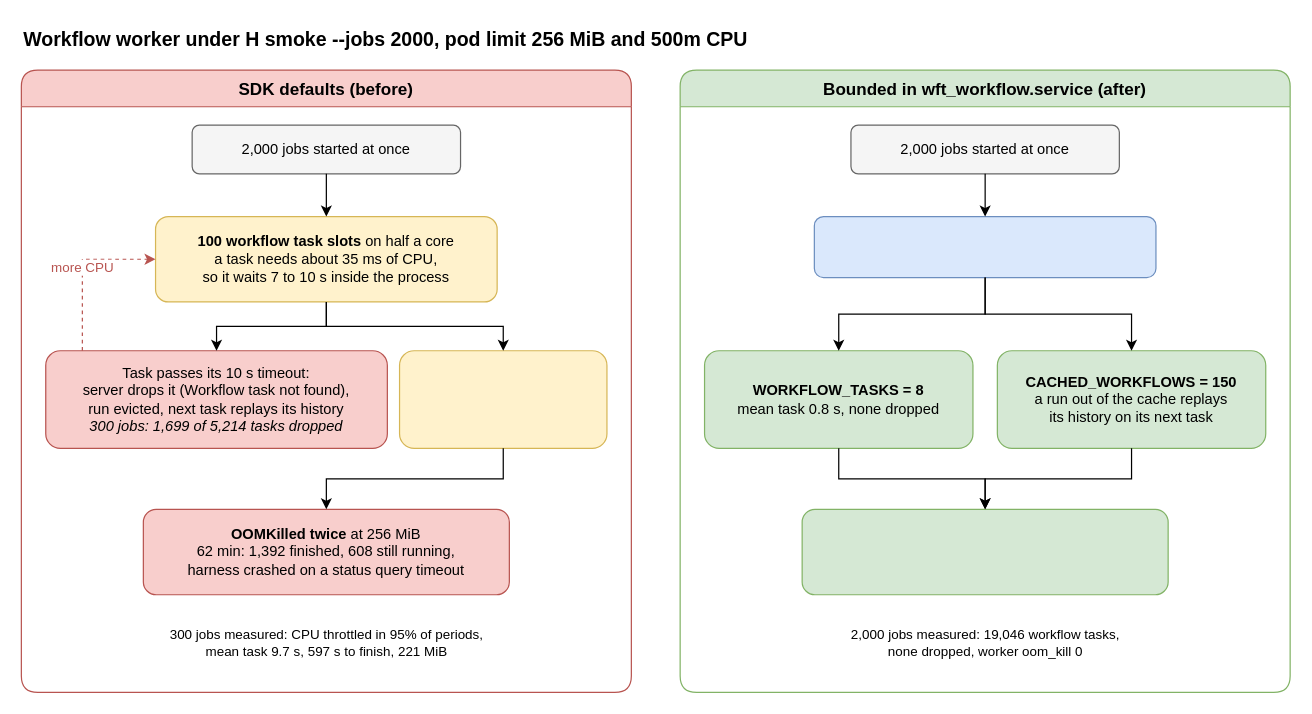
Image size: 1312x714. Some labels were removed from this diagram. The centre of each missing label's shape, as x and y in pixels:
"Cache up to 1,000 runs up to 0.5 MiB each, fills as every job stays open" belongs at point 502,399.
"finished: 2000, failed: 0 38 min, peak 221 MiB of 256, no restart" belongs at point 984,551.
"Tasks wait on the server's task queue, where no workflow task timeout runs" belongs at point 984,246.
